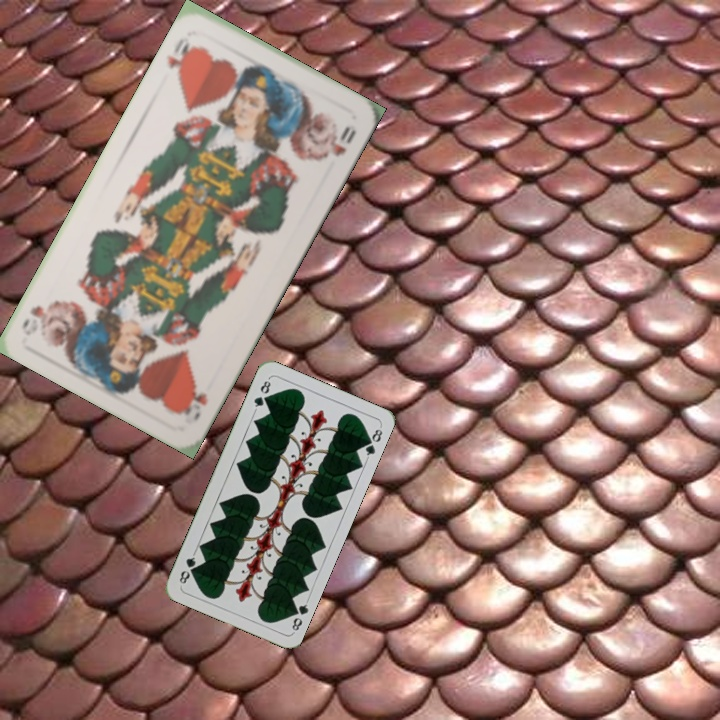G8: (286, 596, 311, 635), (250, 375, 273, 413)
HO: (162, 33, 198, 82), (176, 380, 210, 424)
